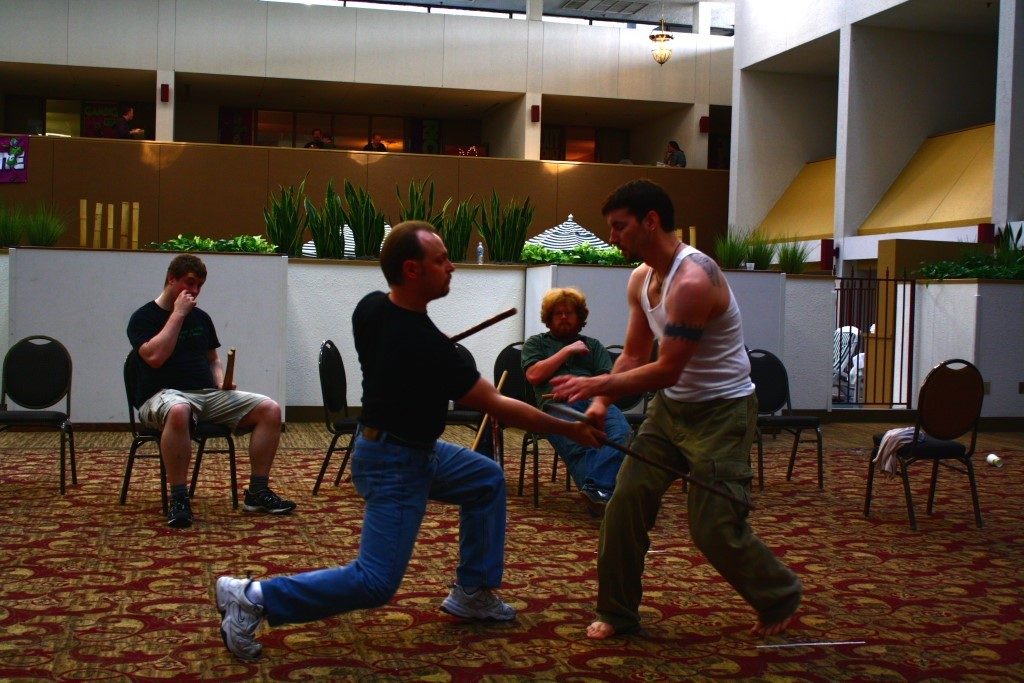baston_e: (598, 431, 748, 510), (471, 373, 507, 450), (455, 306, 510, 344), (221, 358, 233, 390)
baston_v: (742, 496, 755, 511), (509, 303, 520, 315), (498, 367, 510, 376), (228, 344, 238, 354), (225, 349, 233, 356)
